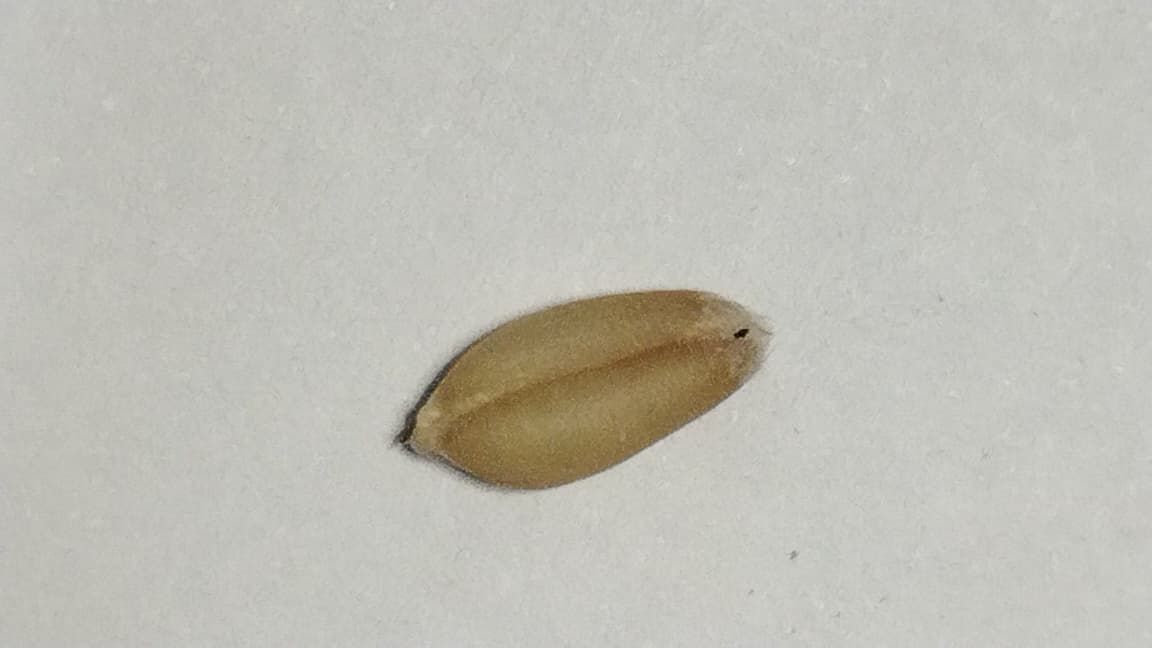healthy: (396, 290, 772, 495)
